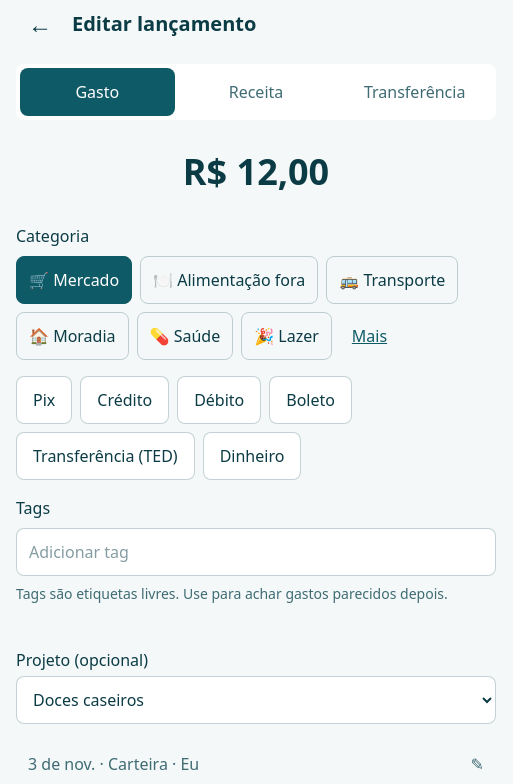
Test: EditTransaction project › switchingToTransferClears
Later steps or results of the test are not shown.
Expected: the text named "Valor" reads "R$ 12,00", [183, 147, 329, 196]
Expected: the dropdown labelled "Projeto (opcional)" is shown, [16, 676, 496, 724]
Click the tab "Transferência": (415, 92) [337, 68, 492, 116]
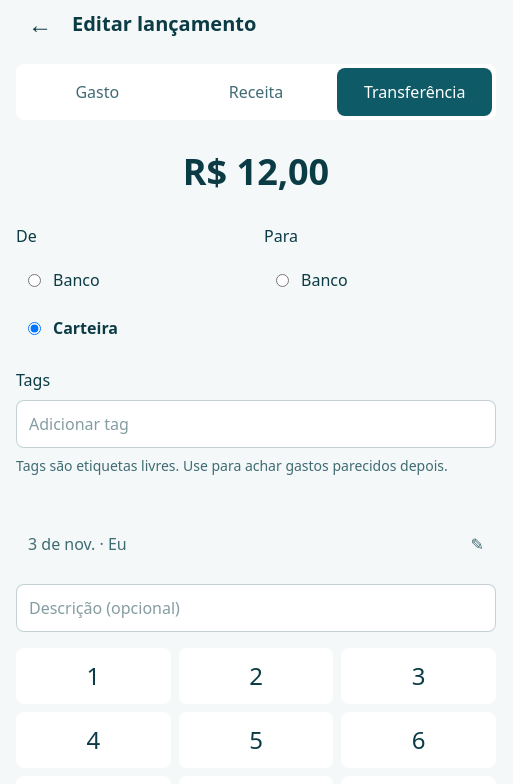
Now the label "Projeto (opcional)" is gone
